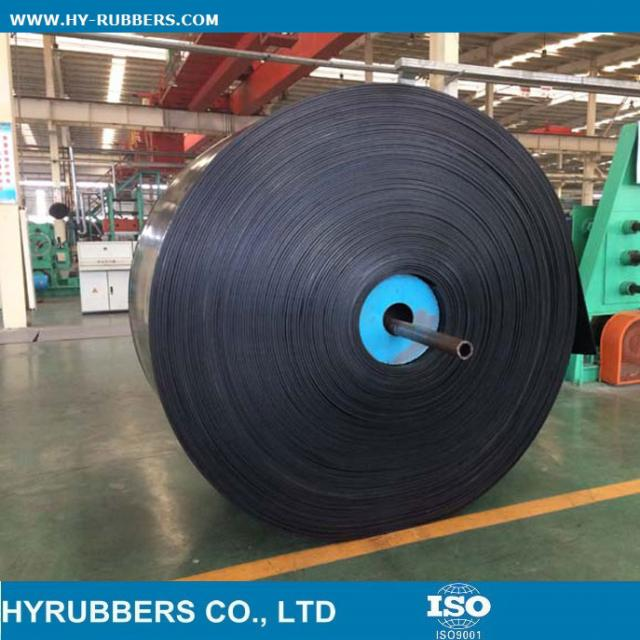convoyeur: (133, 78, 582, 558)
